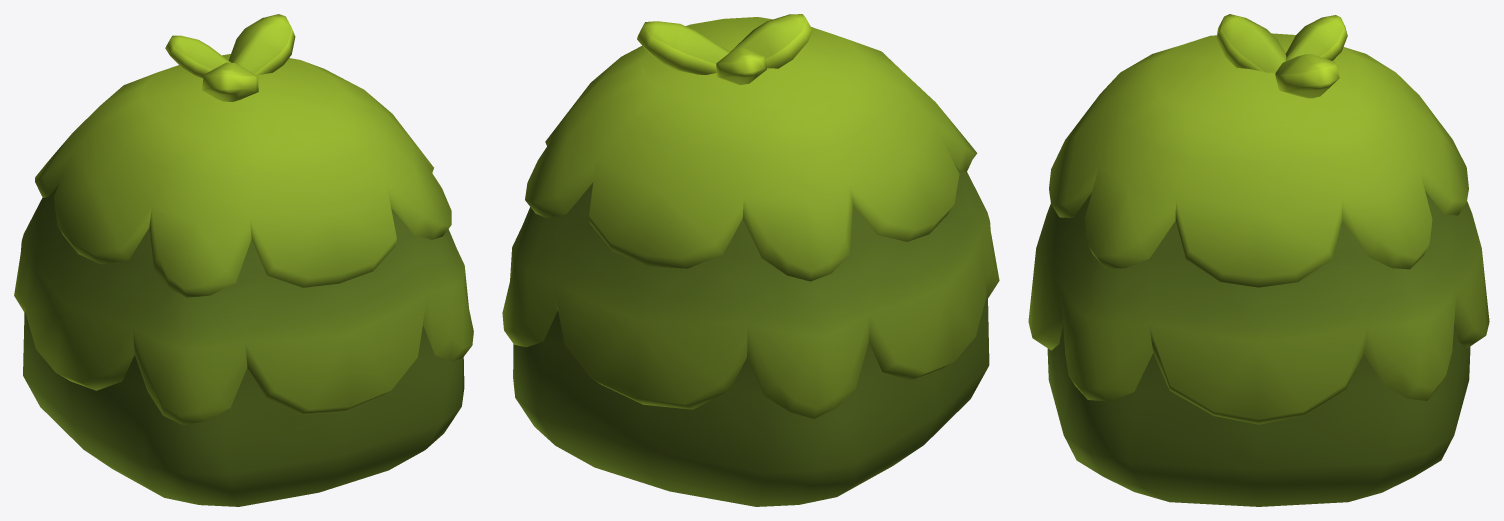
The model's file is bush1_LOD_setup.fbx.
3 renders of one model, left to right at view 1: azimuth 30°, elevation 25°; view 2: azimuth 150°, elevation 25°; view 3: azimuth 270°, elevation 25°, orthographic. The views are drawn at different scales.
Visible parts, largest first — view 1: bush1_LOD0; view 2: bush1_LOD0; view 3: bush1_LOD0.
Boxes of the visible parts, x1=… form: bush1_LOD0: x1=14, y1=14, x2=473, y2=506; bush1_LOD0: x1=502, y1=14, x2=999, y2=506; bush1_LOD0: x1=1028, y1=14, x2=1489, y2=506.
Size of what is drawn, in the model's own units: 231 by 225 by 231.
